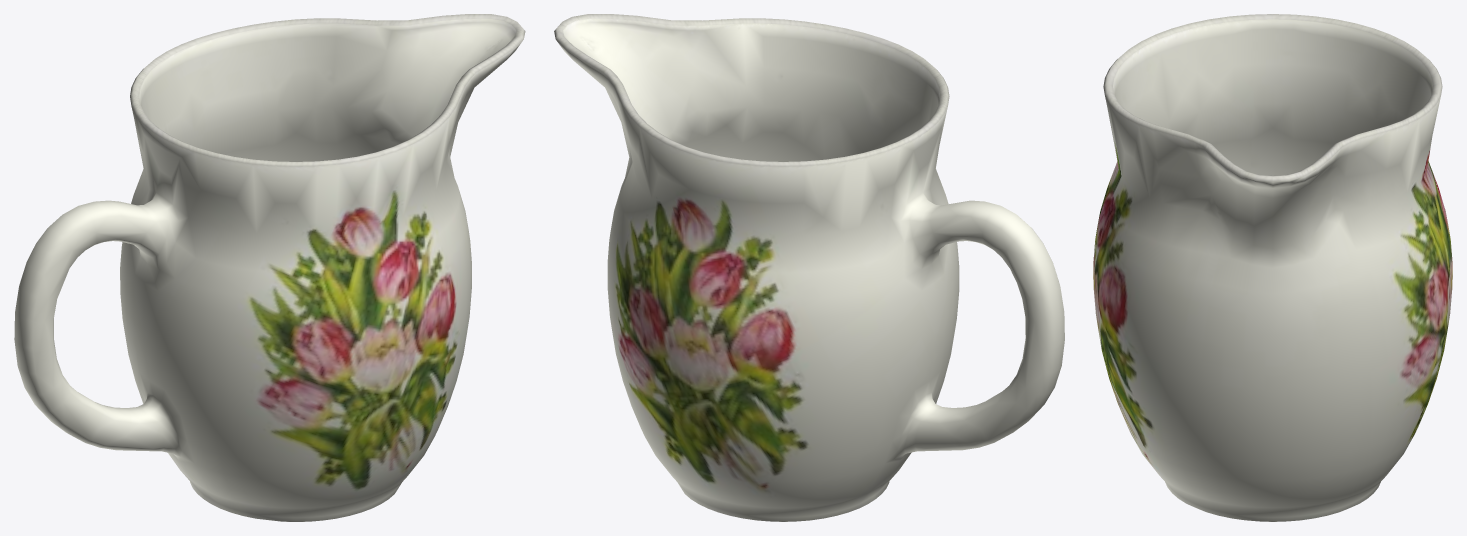
Rendered from jug_01.glb.
3 views of the same model, side by side, from view 1: azimuth 30°, elevation 25°; view 2: azimuth 150°, elevation 25°; view 3: azimuth 270°, elevation 25° (orthographic). The views are drawn at different scales.
Parts seen in each view (by area): view 1: jug_01; view 2: jug_01; view 3: jug_01.
Boxes of the visible parts, x1=… form: jug_01: x1=14, y1=14, x2=525, y2=521; jug_01: x1=554, y1=14, x2=1064, y2=521; jug_01: x1=1093, y1=14, x2=1452, y2=521.
Size of the model in its own units: 0.2753 by 0.2113 by 0.1675.
1 material, 1 textured.
